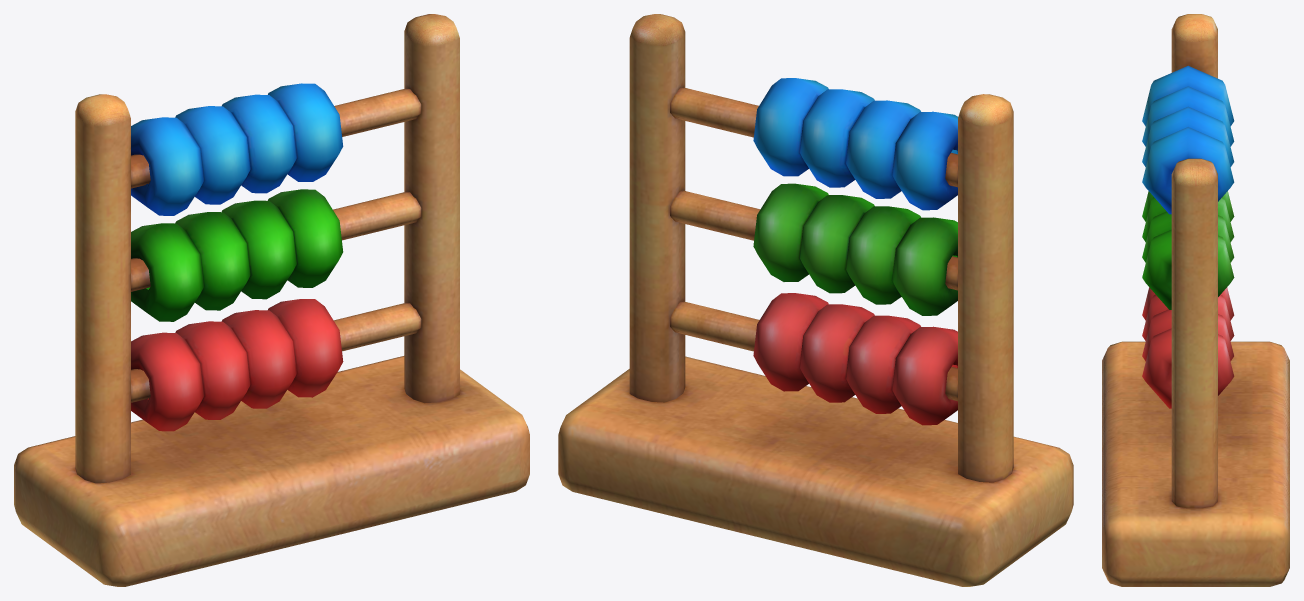
File: 0-abacus.fbx
3 views of the same model, side by side, from view 1: azimuth 30°, elevation 25°; view 2: azimuth 150°, elevation 25°; view 3: azimuth 270°, elevation 25° (orthographic). The views are drawn at different scales.
Parts seen in each view (by area): view 1: 0-abacus; view 2: 0-abacus; view 3: 0-abacus.
Part boxes in pixels (x1,y1,x2,y2): 0-abacus: (14, 14, 529, 586); 0-abacus: (558, 14, 1073, 586); 0-abacus: (1102, 14, 1289, 586).
Size of the model in its own units: 97.59 by 98.13 by 40.94.
